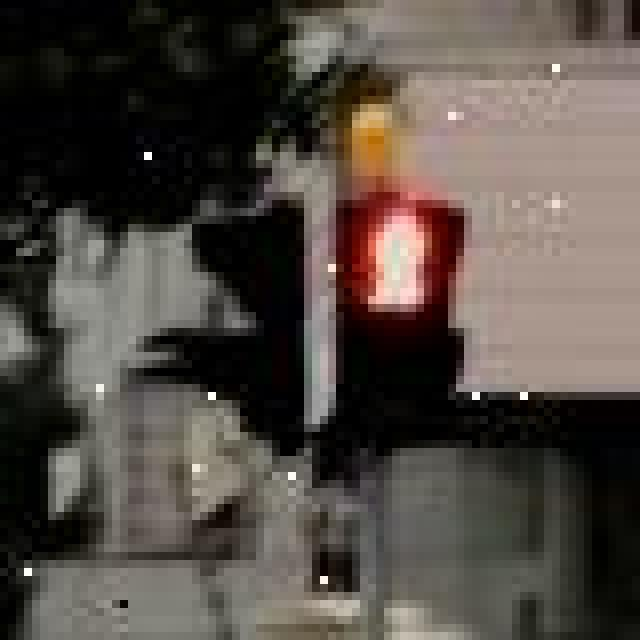redlight: (333, 205, 461, 475)
